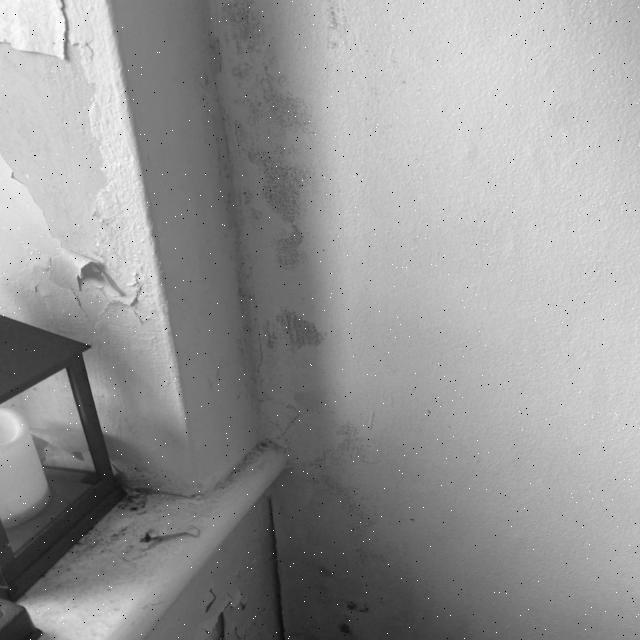stain marks: (132, 374, 421, 640), (196, 0, 385, 371), (3, 27, 108, 308)
